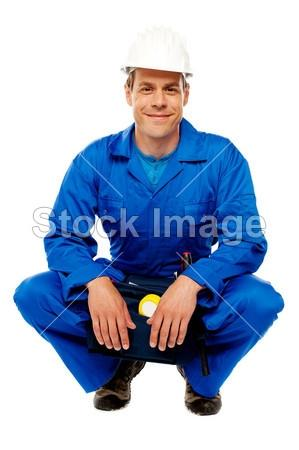helmet: (121, 24, 197, 80)
wear: (64, 139, 266, 280)
